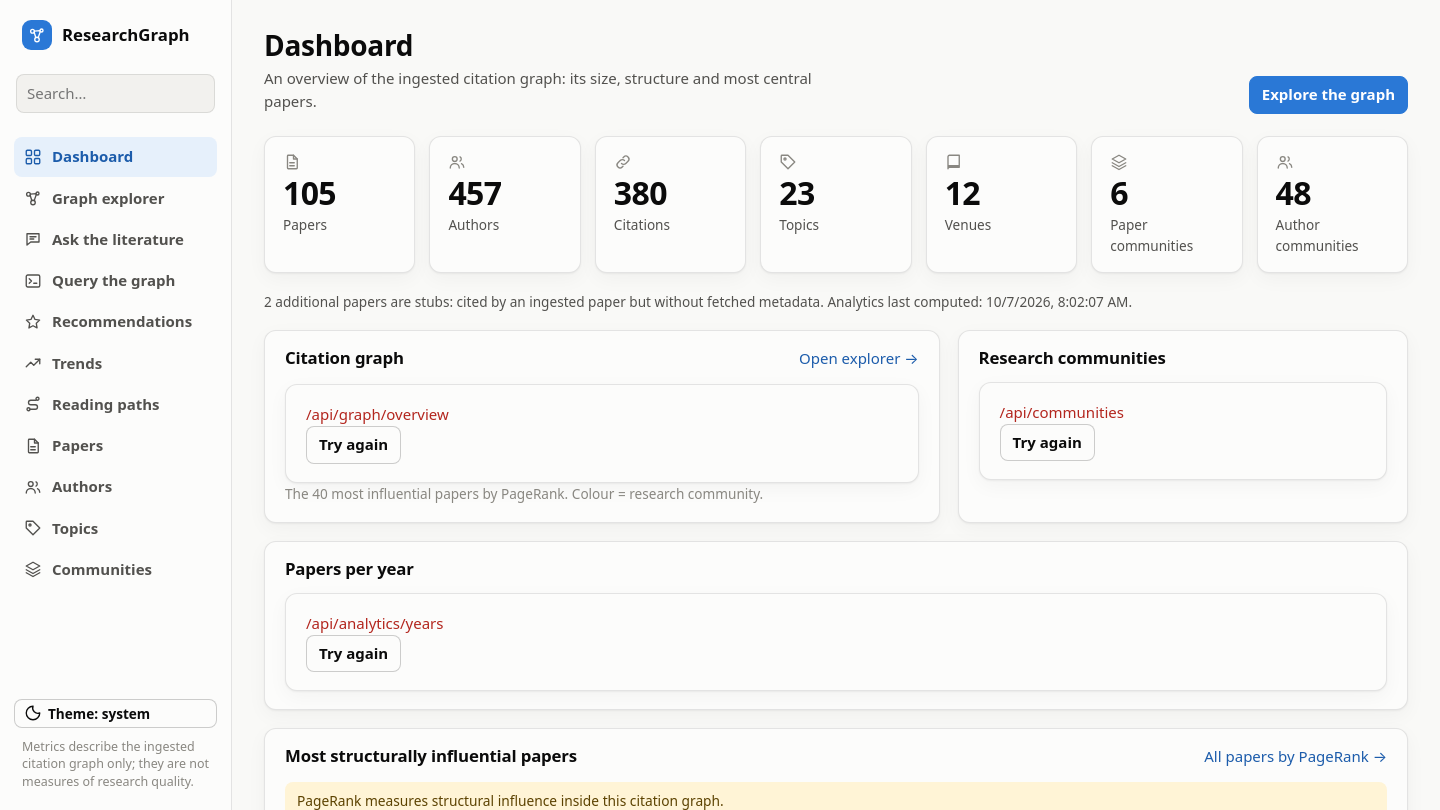
Test case: App routing › navigates between the dashboard and the papers browser
The image size is (1440, 810).
Expected: the heading "Dashboard" is shown, [264, 26, 413, 64]
Click the link "Papers" at point(64, 445), box [24, 435, 103, 455]
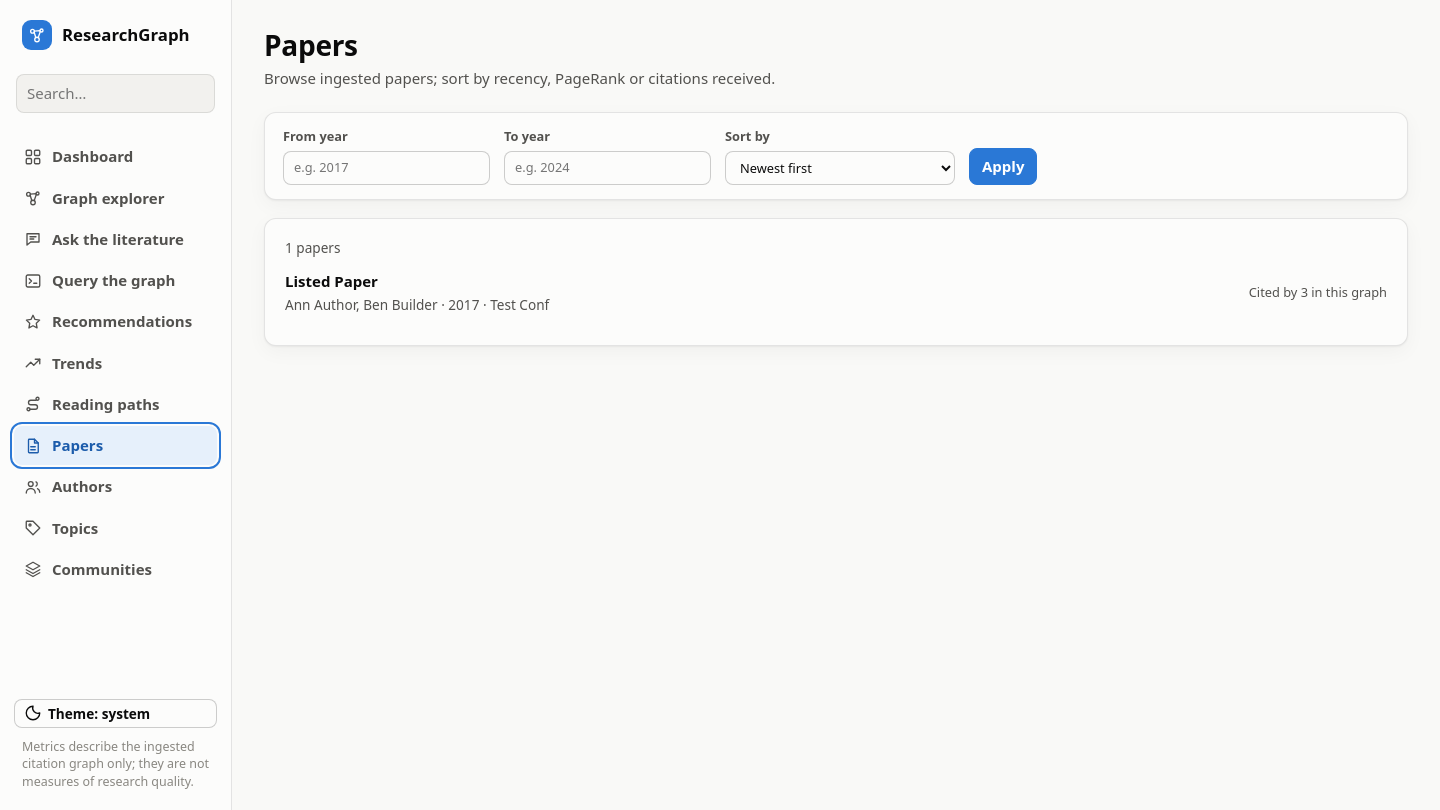
Expected: the link "Listed Paper" is shown, [285, 271, 378, 291]
